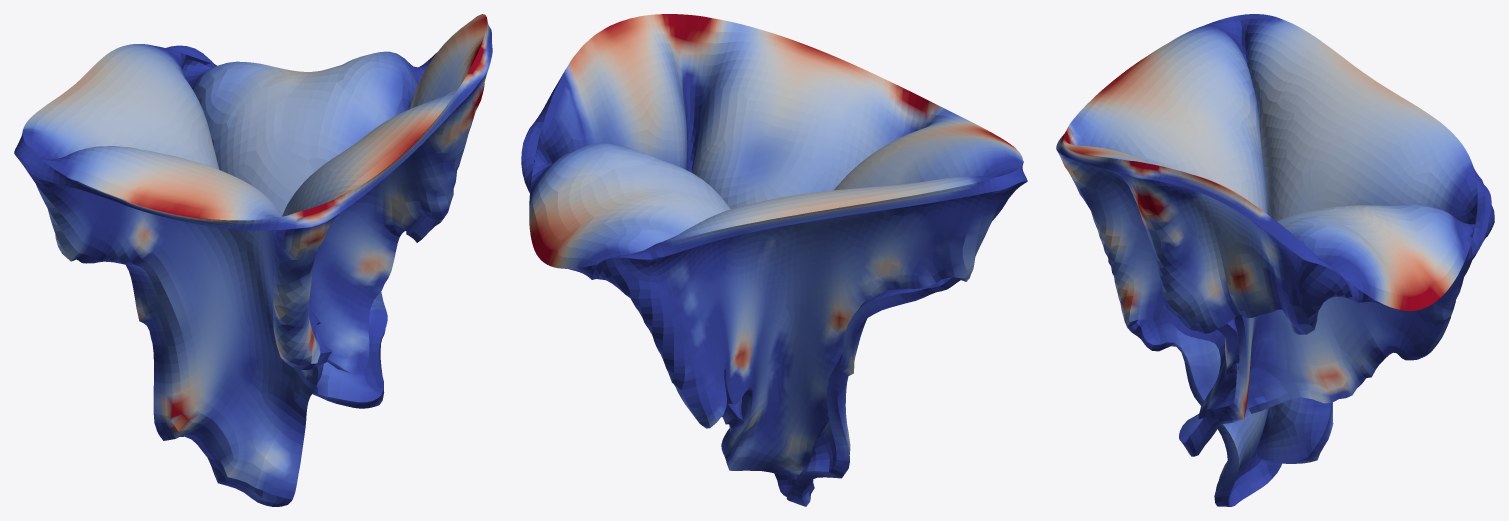
The picture shows the model from 3 angles, left to right: view 1: azimuth 30°, elevation 25°; view 2: azimuth 150°, elevation 25°; view 3: azimuth 270°, elevation 25°; orthographic projection. The views are drawn at different scales.
Parts seen in each view (by area): view 1: OCS14_maxS_13; view 2: OCS14_maxS_13; view 3: OCS14_maxS_13.
Boxes of the visible parts, x1=… form: OCS14_maxS_13: x1=14, y1=14, x2=492, y2=506; OCS14_maxS_13: x1=521, y1=14, x2=1027, y2=506; OCS14_maxS_13: x1=1056, y1=14, x2=1494, y2=506.
Size of the model in its own units: 1.42 by 1.26 by 1.19.
